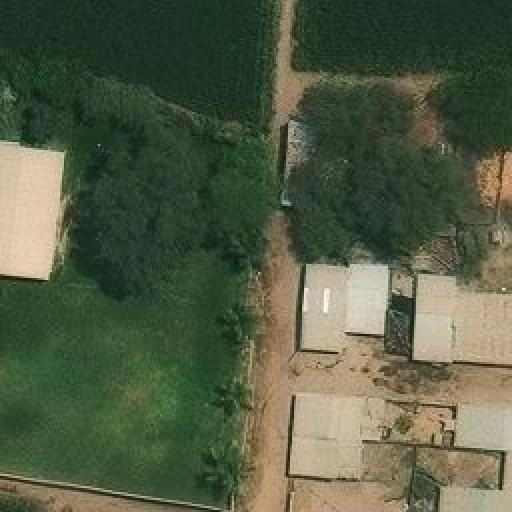manzanas: (280, 391, 510, 510), (279, 115, 510, 232), (296, 259, 510, 372), (0, 141, 69, 284)
